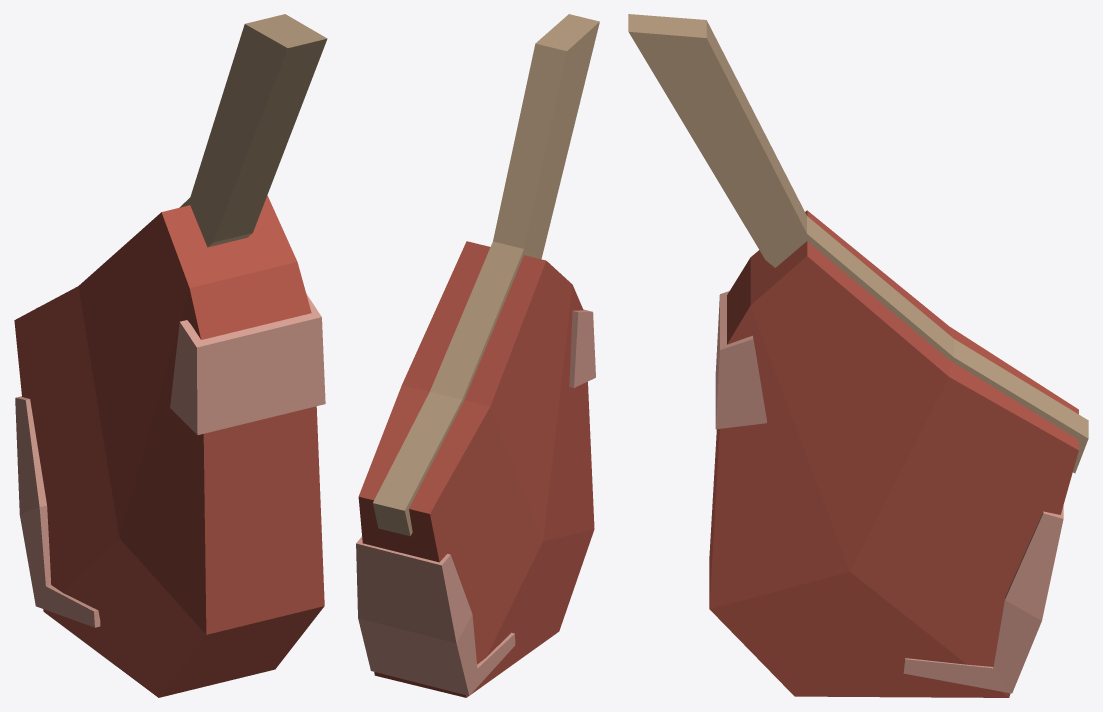
The model's file is lambRibCut.fbx.
3 renders of one model, left to right at view 1: azimuth 30°, elevation 25°; view 2: azimuth 150°, elevation 25°; view 3: azimuth 270°, elevation 25°, orthographic. The views are drawn at different scales.
Parts seen in each view (by area): view 1: lambRibCut; view 2: lambRibCut; view 3: lambRibCut.
Part boxes in pixels (x1,y1,x2,y2): lambRibCut: [14, 14, 327, 697]; lambRibCut: [356, 14, 599, 697]; lambRibCut: [628, 14, 1088, 697].
Size of the model in its own units: 4.44 by 22.43 by 14.44.
1 material, 1 textured.
